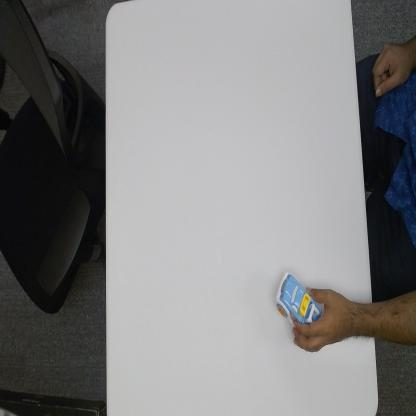Arm: (351, 298, 374, 338)
Car: (274, 270, 321, 326)
Hand: (291, 285, 349, 354)
